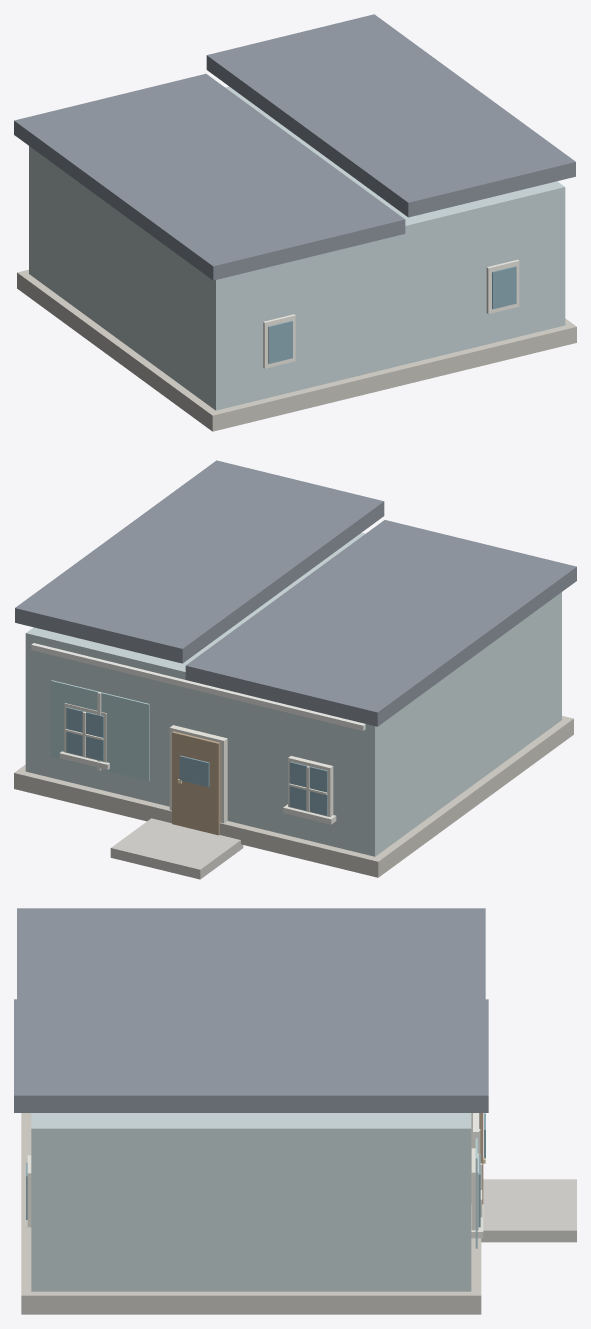
Rendered from House_Modern.glb.
3 renders of one model, top to bottom at view 1: azimuth 30°, elevation 25°; view 2: azimuth 150°, elevation 25°; view 3: azimuth 270°, elevation 25°, orthographic. The views are drawn at different scales.
Parts seen in each view (by area): view 1: 001_exterior_001, 002_flat_roof_002, 003_roof_stepped_003, 000_foundation_000, 023_rear_glass_023, 025_rear_glass_025, 024_rear_window_024, 022_rear_window_022; view 2: 001_exterior_001, 002_flat_roof_002, 003_roof_stepped_003, 000_foundation_000, 005_picture_window_005, 021_stoop_021, 018_door_018, 004_fascia_004, 008_window_glass_008, 013_window_glass_013, 017_door_trim_017, 020_door_glazing_020 (+1 smaller); view 3: 001_exterior_001, 003_roof_stepped_003, 002_flat_roof_002, 000_foundation_000, 021_stoop_021, 012_window_trim_012.
Boxes of the visible parts, left/top/right/bottom form: 001_exterior_001: left=29, top=86, right=565, bottom=410; 002_flat_roof_002: left=14, top=73, right=405, bottom=280; 003_roof_stepped_003: left=206, top=14, right=575, bottom=217; 000_foundation_000: left=17, top=269, right=576, bottom=431; 023_rear_glass_023: left=268, top=321, right=292, bottom=363; 025_rear_glass_025: left=492, top=266, right=516, bottom=309; 024_rear_window_024: left=486, top=259, right=519, bottom=314; 022_rear_window_022: left=263, top=314, right=295, bottom=368; 001_exterior_001: left=25, top=532, right=561, bottom=856; 002_flat_roof_002: left=185, top=520, right=576, bottom=726; 003_roof_stepped_003: left=15, top=460, right=384, bottom=663; 000_foundation_000: left=14, top=716, right=573, bottom=877; 005_picture_window_005: left=51, top=680, right=149, bottom=781; 021_stoop_021: left=110, top=818, right=243, bottom=879; 018_door_018: left=172, top=731, right=220, bottom=835; 004_fascia_004: left=31, top=643, right=365, bottom=730; 008_window_glass_008: left=289, top=761, right=327, bottom=815; 013_window_glass_013: left=66, top=707, right=103, bottom=760; 017_door_trim_017: left=169, top=725, right=227, bottom=823; 020_door_glazing_020: left=179, top=755, right=209, bottom=787; 001_exterior_001: left=31, top=1113, right=471, bottom=1291; 003_roof_stepped_003: left=14, top=999, right=488, bottom=1112; 002_flat_roof_002: left=17, top=908, right=485, bottom=999; 000_foundation_000: left=21, top=1113, right=481, bottom=1314; 021_stoop_021: left=481, top=1179, right=576, bottom=1242; 012_window_trim_012: left=471, top=1148, right=478, bottom=1230.
Size of the model in its own units: 8.58 by 4.26 by 9.72.
